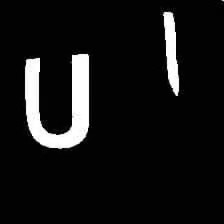LTR_U: (14, 49, 98, 151)
